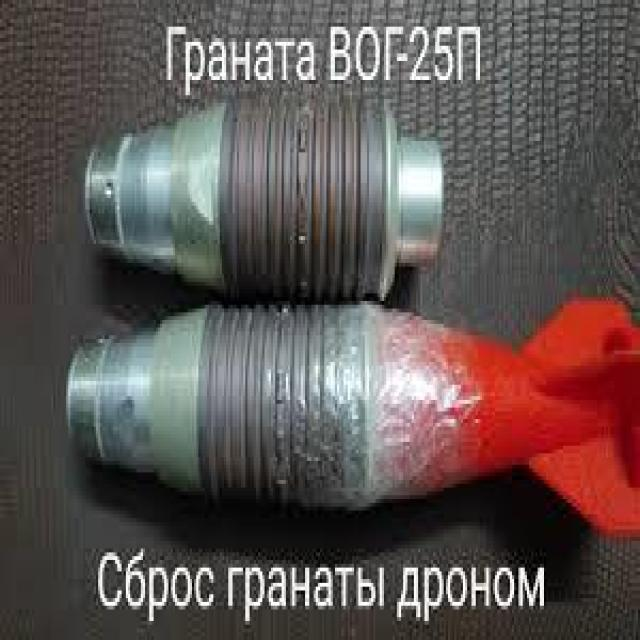grenade: (64, 291, 640, 544), (82, 98, 446, 306)
